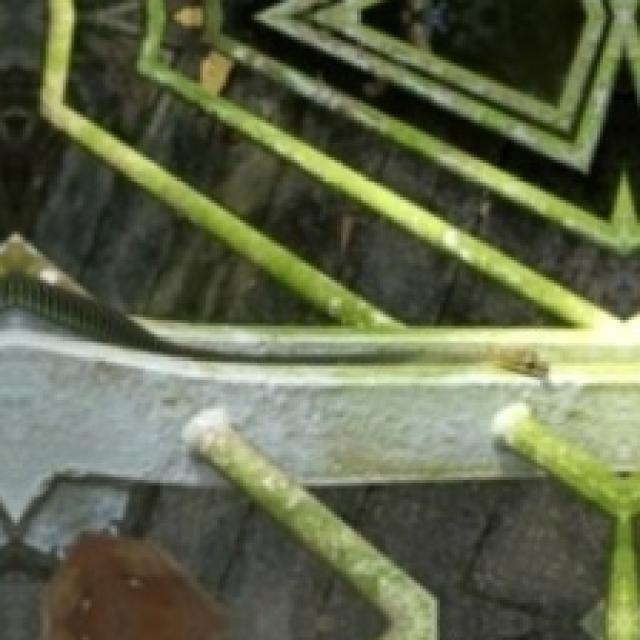paradise tree snake: (0, 234, 637, 380)
